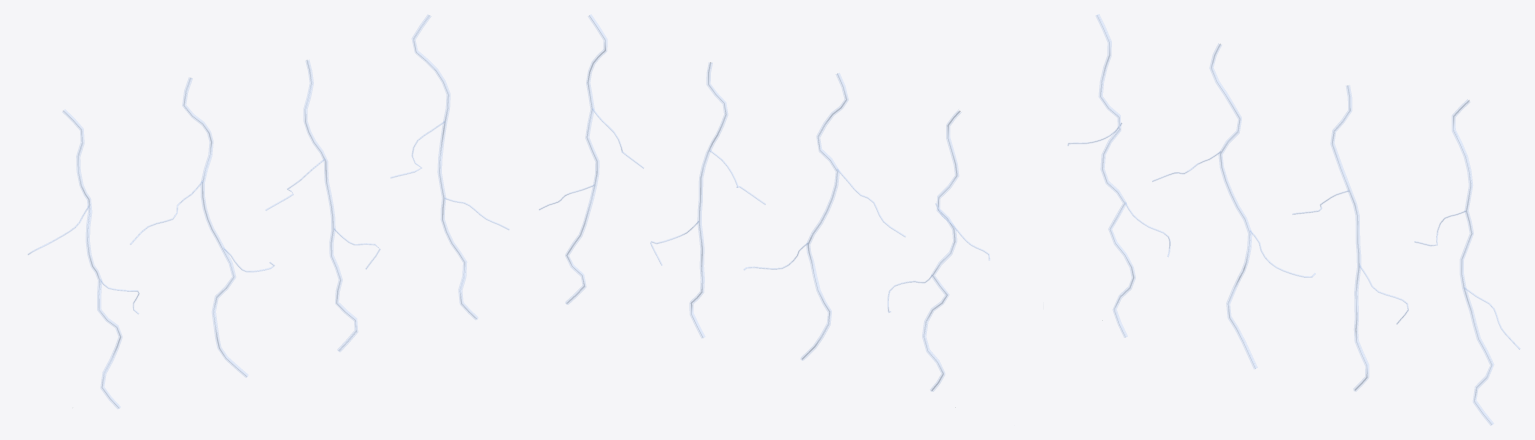
Rendered from river-weather.glb.
3 renders of one model, left to right at view 1: azimuth 30°, elevation 25°; view 2: azimuth 150°, elevation 25°; view 3: azimuth 330°, elevation 25°, orthographic.
Visible parts, largest first — view 1: Halo branch 1 (×4), Core branch 1 (×4); view 2: Halo branch 1 (×4), Core branch 1 (×4); view 3: Halo branch 1 (×4), Core branch 1 (×4).
Boxes of the visible parts, x1,y1,x2,y2 form: Halo branch 1 (×4): (63,15,477,408); Core branch 1 (×4): (63,15,476,407); Halo branch 1 (×4): (565,15,960,391); Core branch 1 (×4): (566,15,960,390); Halo branch 1 (×4): (1096,14,1493,425); Core branch 1 (×4): (1097,14,1492,424).
Bounding box in the file's own units: 49.53 × 30.16 × 3.39.
